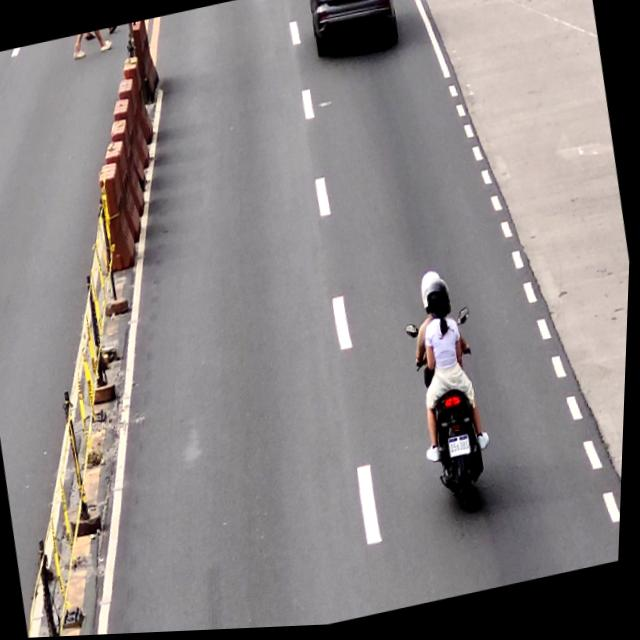Car: (303, 0, 402, 66)
License-Plate: (450, 438, 476, 464), (339, 0, 363, 2)
Motorcycle: (400, 311, 510, 527)
